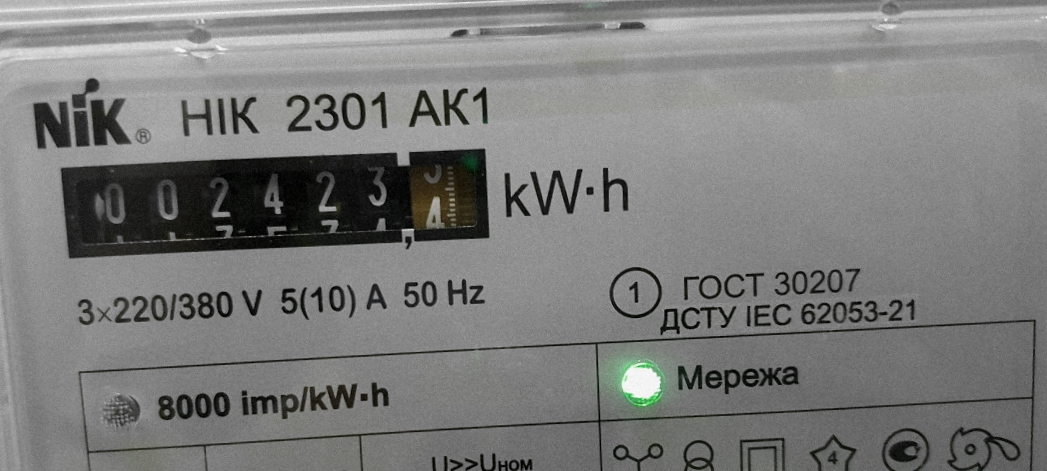0: (100, 178, 129, 227), (154, 177, 180, 222)
2: (205, 173, 233, 220), (313, 169, 338, 215)
3: (364, 163, 389, 209), (421, 161, 443, 185)
4: (260, 171, 284, 217), (421, 192, 447, 231)
screen: (49, 137, 503, 271)
